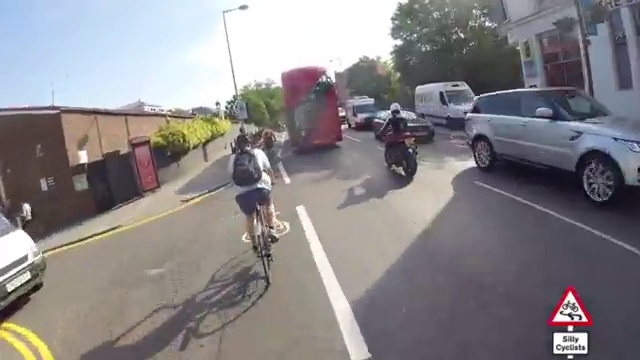cyclist_back: (229, 131, 284, 285), (375, 103, 422, 180)
